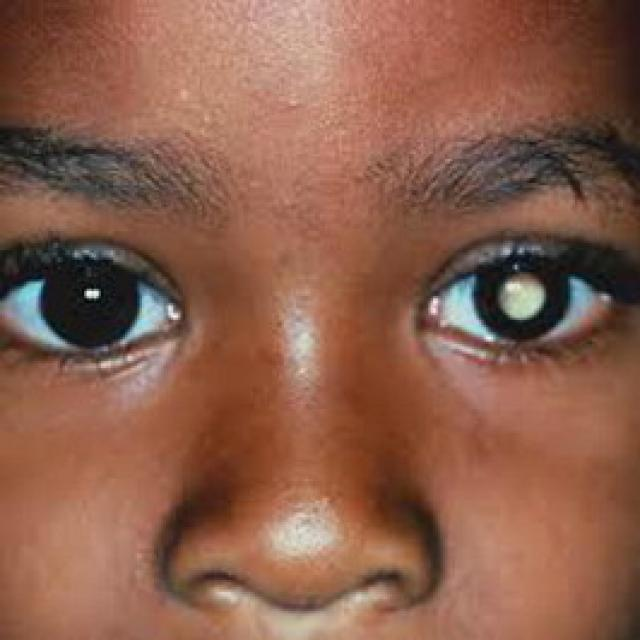reflexo-alterado: (427, 234, 598, 366)
reflexo-normal: (16, 238, 183, 375)
